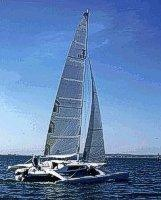Ship: (7, 9, 131, 186)
